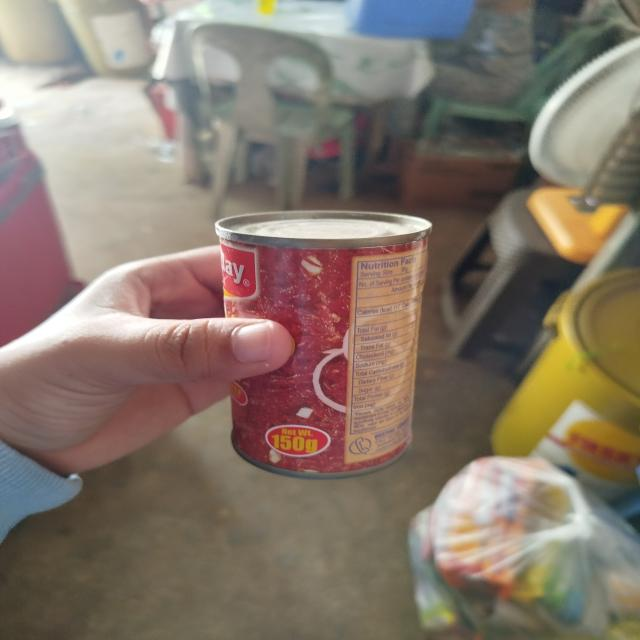metal: (192, 192, 443, 490)
residual: (403, 450, 640, 640)
